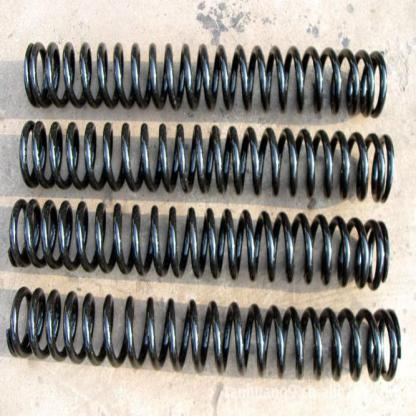FOD: (5, 284, 405, 384), (5, 195, 390, 294), (19, 117, 398, 207), (23, 36, 388, 119)
